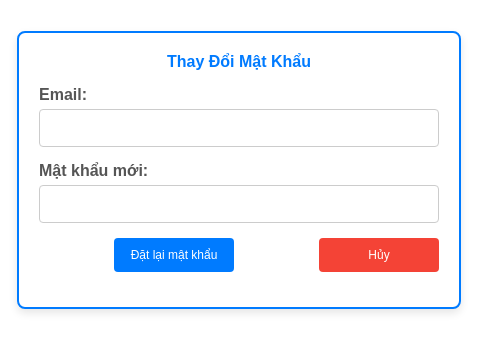
ResetPasswordForm › displays success message on successful reset
Type "test@example.com" into the field labelled "Email:" at (239, 128), box [39,109,439,147]
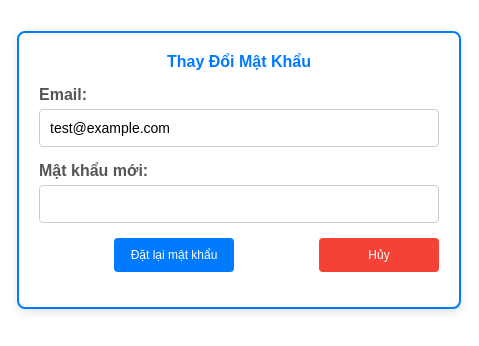
Type "newpassword123" into the password field labelled "Mật khẩu mới:" at (239, 204), box [39,185,439,223]
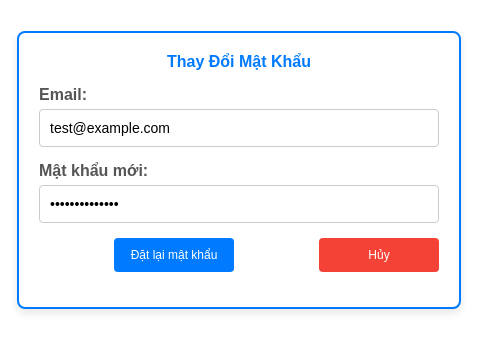
Click the button "Đặt lại mật khẩu" at (174, 255), box [114,238,234,272]
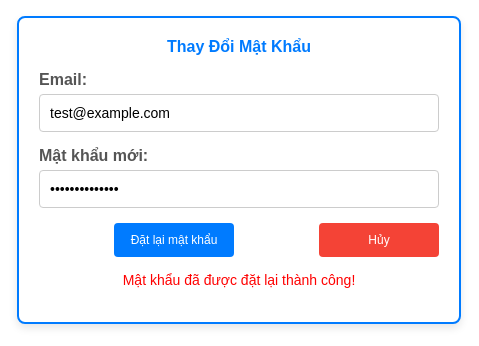
Expected: the text "Mật khẩu đã được đặt lại thành công!" is shown, [123,272,355,288]
